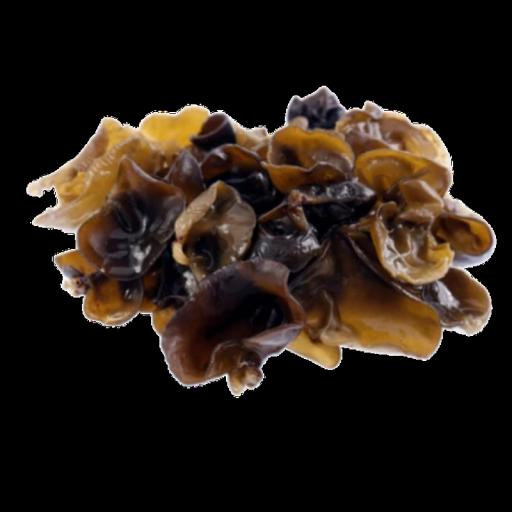Wood Ear Mushroom: (29, 84, 509, 401)
